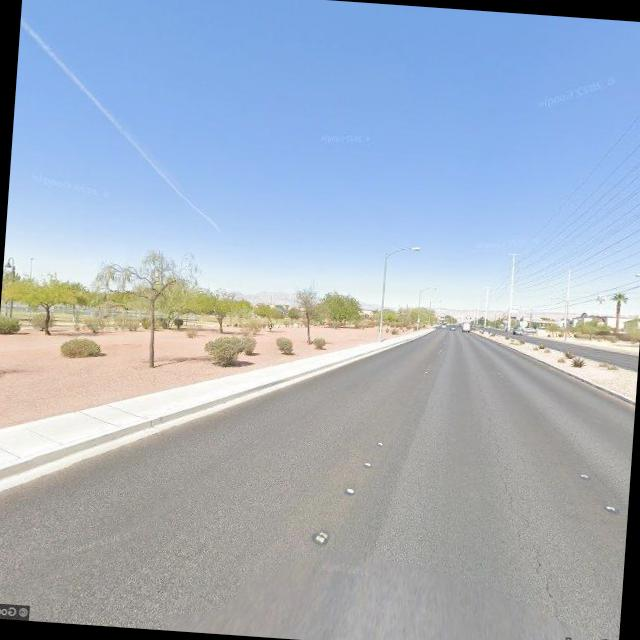crack: (486, 468, 576, 620)
